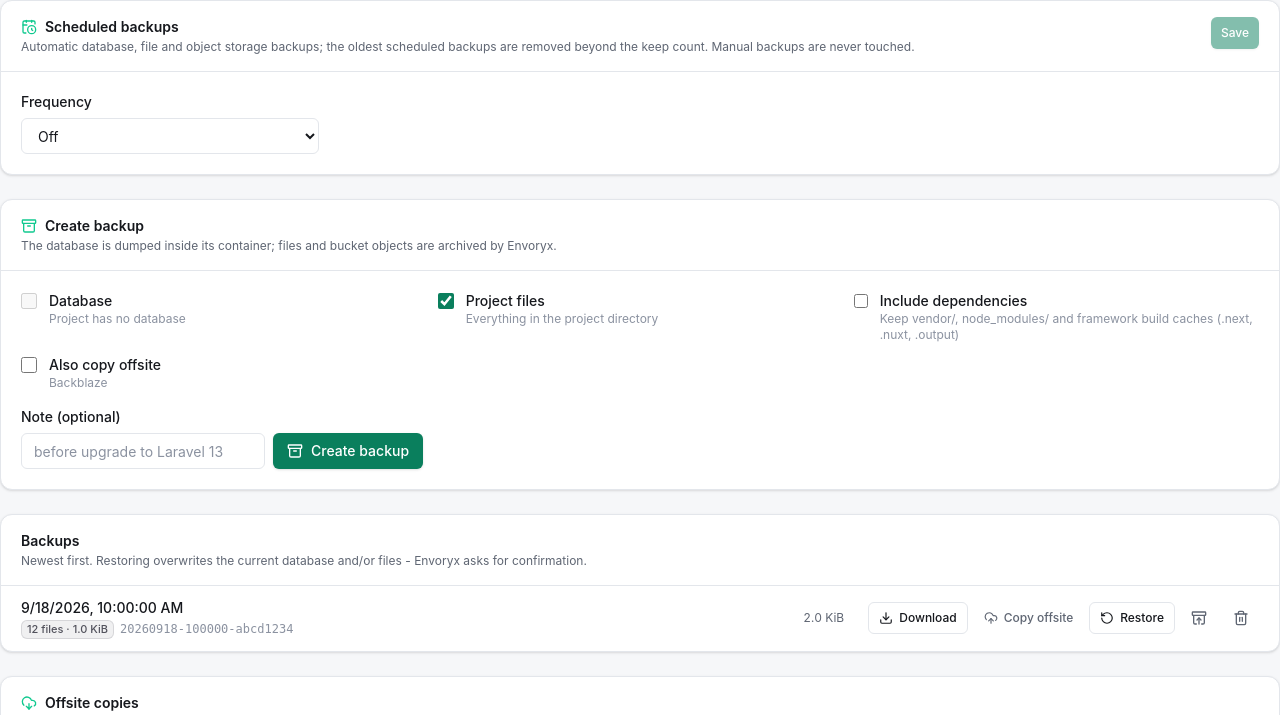
Test: offsite copies of project backups › shows the copies, copies on request and fetches one back
Click the button "Copy offsite": (1028, 618) [974,602,1083,634]
(page scrolled)
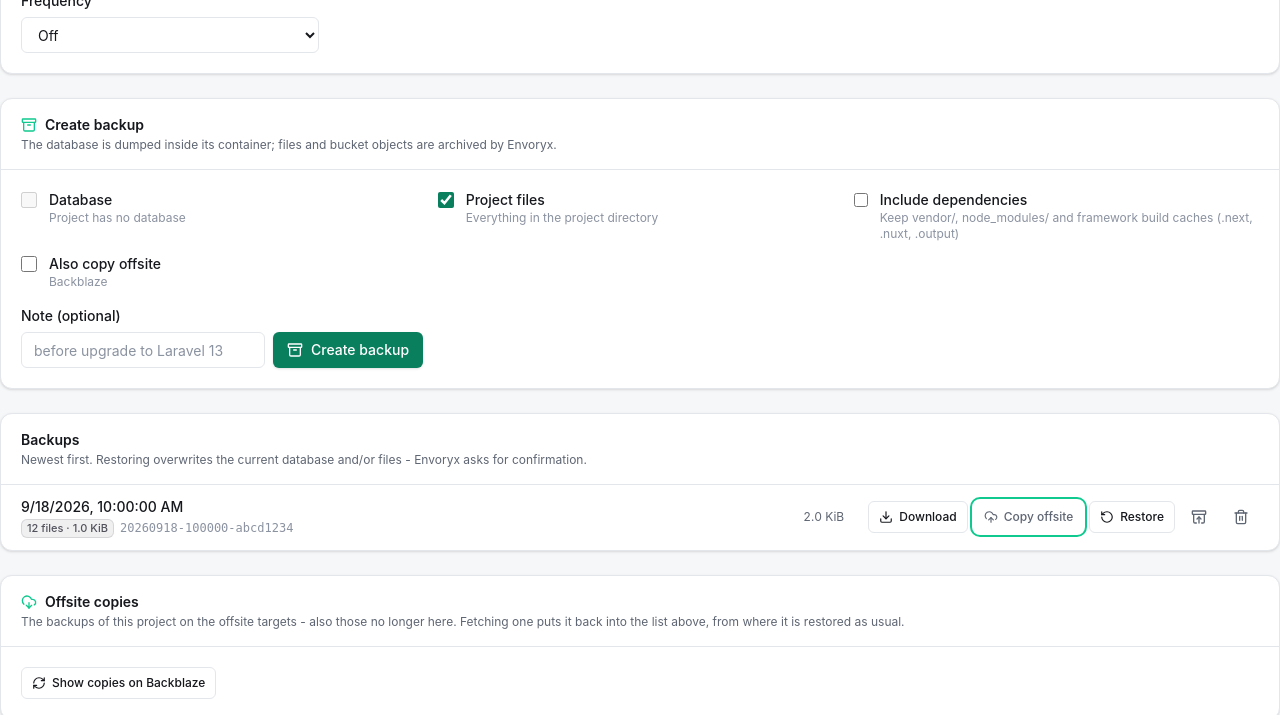
Click the button "Show copies on Backblaze": (119, 683) [21,667,216,699]
(page scrolled)
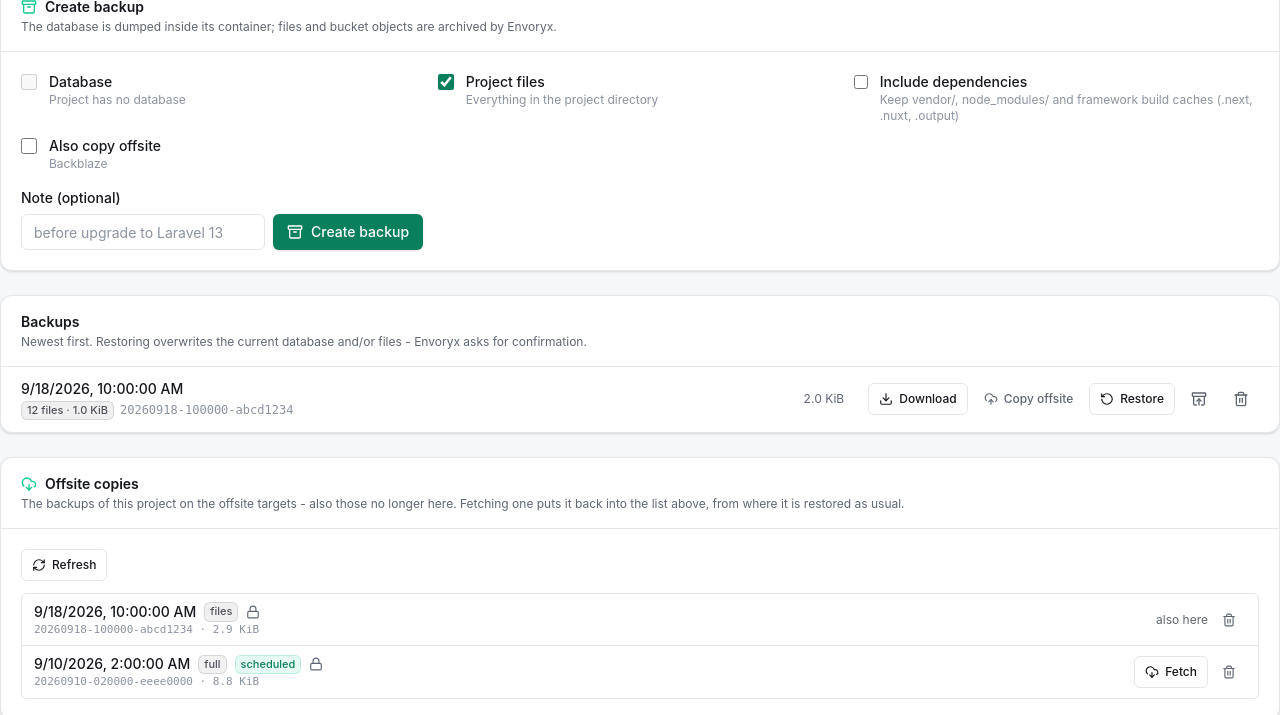
Result: the text "also here" is shown at [1156,612,1208,628]
Click the button "Fetch": (1171, 672) [1134,656,1208,688]
(page scrolled)
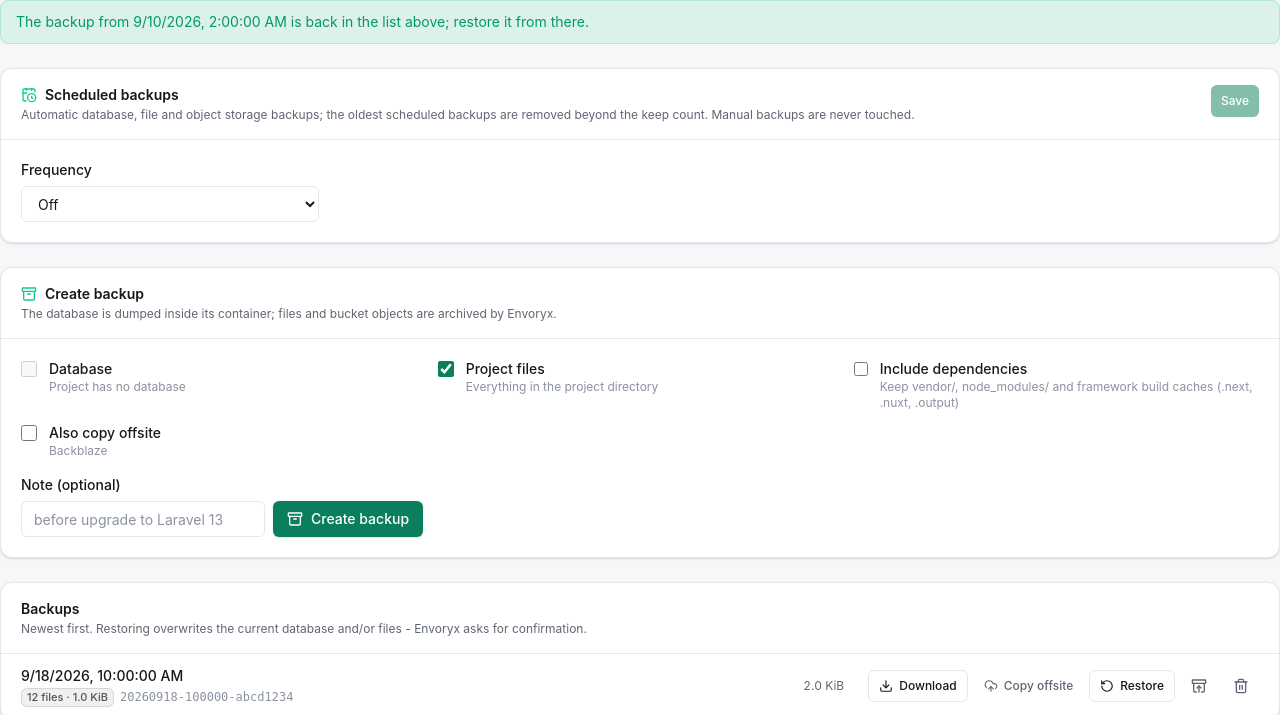
Result: the text "is back in the list above" is shown at [16,13,589,30]
